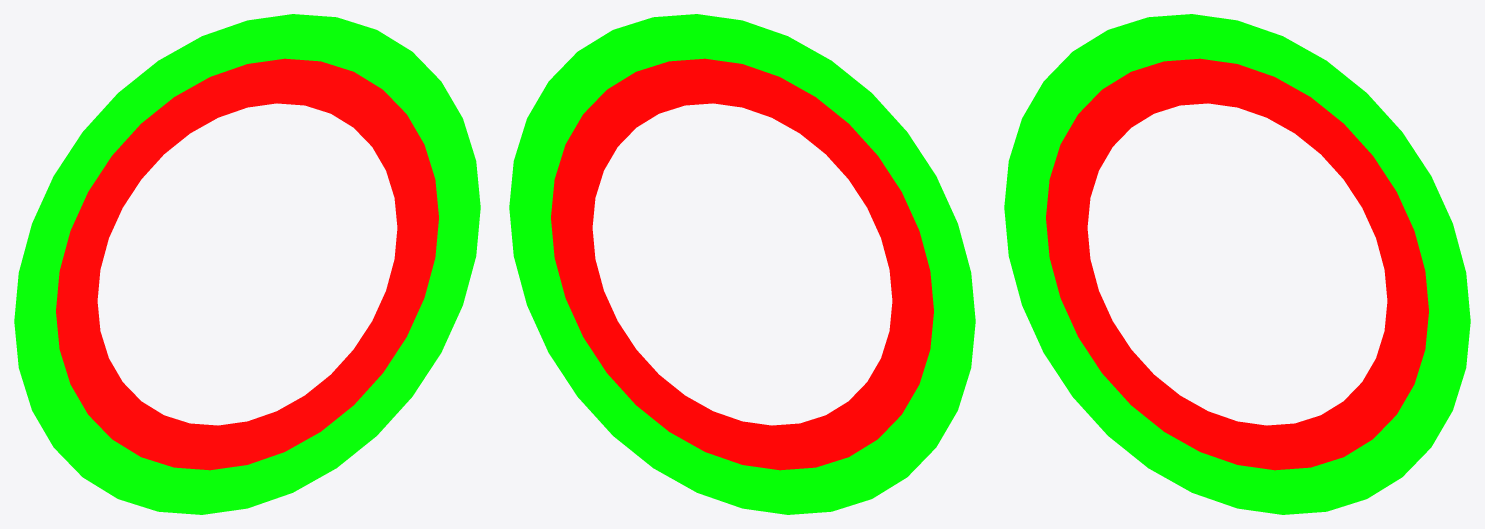
Rendered from tc_emission.dae.
3 renders of one model, left to right at view 1: azimuth 30°, elevation 25°; view 2: azimuth 150°, elevation 25°; view 3: azimuth 330°, elevation 25°, orthographic.
Bounding box in the file's own units: 56 × 56 × 0.
